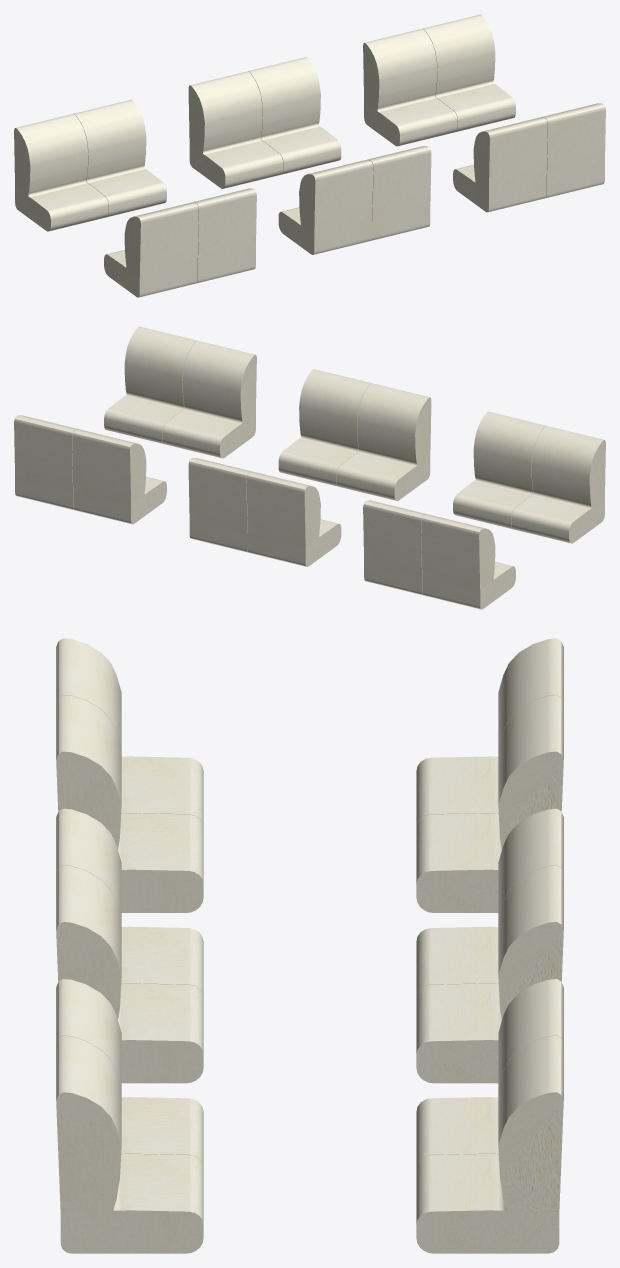
Rendered from sofa2.obj.
3 renders of one model, top to bottom at view 1: azimuth 30°, elevation 25°; view 2: azimuth 150°, elevation 25°; view 3: azimuth 270°, elevation 25°, orthographic. The views are drawn at different scales.
Visible parts, largest first — view 1: group62 pCube27, group62 pCube23, group62 pCube30, group62 pCube26, group62 pCube29, pCube1 group62, group62 pCube24, group62 pCube21, group62 _Sofa3:pCube1, group62 pCube28, group62 pCube22, group62 pCube25; view 2: group62 pCube24, group62 pCube21, group62 _Sofa3:pCube1, group62 pCube25, group62 pCube28, group62 pCube22, group62 pCube27, group62 pCube23, group62 pCube30, group62 pCube29, pCube1 group62, group62 pCube26; view 3: pCube1 group62, group62 pCube22, group62 pCube25, group62 pCube26, group62 pCube28, group62 pCube29, group62 _Sofa3:pCube1, group62 pCube30, group62 pCube24, group62 pCube27, group62 pCube21, group62 pCube23.
Boxes of the visible parts, x1,y1,x2,y2 form: group62 pCube27: (188, 71, 283, 188); group62 pCube23: (363, 28, 457, 146); group62 pCube30: (14, 113, 108, 231); group62 pCube26: (248, 57, 341, 174); group62 pCube29: (74, 99, 166, 217); pCube1 group62: (423, 14, 515, 131); group62 pCube24: (278, 160, 373, 254); group62 pCube21: (453, 117, 547, 212); group62 _Sofa3:pCube1: (104, 202, 198, 297); group62 pCube28: (191, 188, 256, 283); group62 pCube22: (541, 103, 605, 197); group62 pCube25: (366, 146, 431, 240); group62 pCube24: (336, 383, 431, 500); group62 pCube21: (162, 340, 256, 458); group62 _Sofa3:pCube1: (511, 425, 605, 543); group62 pCube25: (278, 369, 371, 486); group62 pCube28: (453, 411, 545, 529); group62 pCube22: (104, 326, 196, 443); group62 pCube27: (246, 472, 341, 566); group62 pCube23: (72, 429, 166, 524); group62 pCube30: (421, 514, 515, 609); group62 pCube29: (363, 500, 428, 595); pCube1 group62: (14, 415, 78, 509); group62 pCube26: (188, 458, 253, 552); pCube1 group62: (416, 1035, 563, 1253); group62 pCube22: (56, 1035, 203, 1253); group62 pCube25: (56, 865, 203, 1083); group62 pCube26: (416, 865, 563, 1083); group62 pCube28: (56, 695, 203, 912); group62 pCube29: (416, 695, 563, 912); group62 _Sofa3:pCube1: (56, 638, 203, 827); group62 pCube30: (416, 638, 563, 827); group62 pCube24: (56, 808, 203, 997); group62 pCube27: (416, 808, 563, 997); group62 pCube21: (56, 979, 203, 1167); group62 pCube23: (416, 979, 563, 1167).
Bounding box in the file's own units: 453 × 75.19 × 214.
